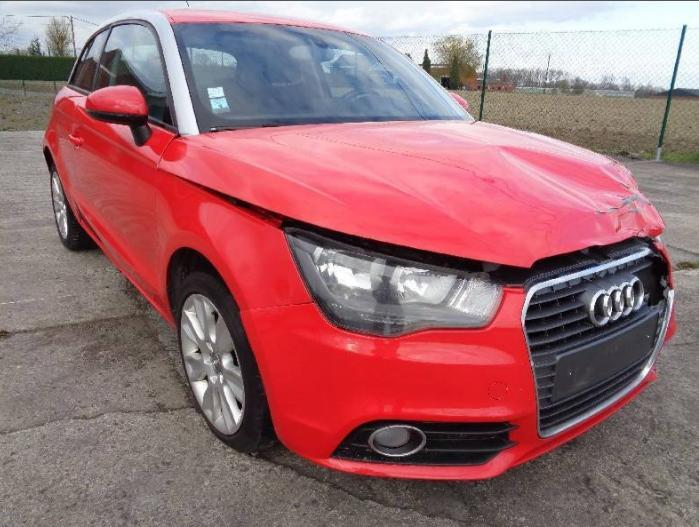Back-wheel: (50, 163, 100, 251)
Back-window: (69, 29, 109, 91)
Fender: (153, 169, 314, 320)
Front-bumper: (241, 286, 657, 480)
Front-door: (68, 18, 182, 300)
Front-wheel: (175, 268, 281, 453)
Front-window: (94, 24, 173, 124)
Grille: (522, 248, 673, 437)
Headlight: (286, 228, 503, 338)
Hood: (158, 119, 666, 269)
Mirror: (86, 85, 152, 145), (450, 92, 466, 109)
Quarter-panel: (44, 86, 87, 215)
Rocker-panel: (75, 213, 174, 328)
Roof: (90, 8, 364, 35)
Windshield: (171, 22, 475, 132)
